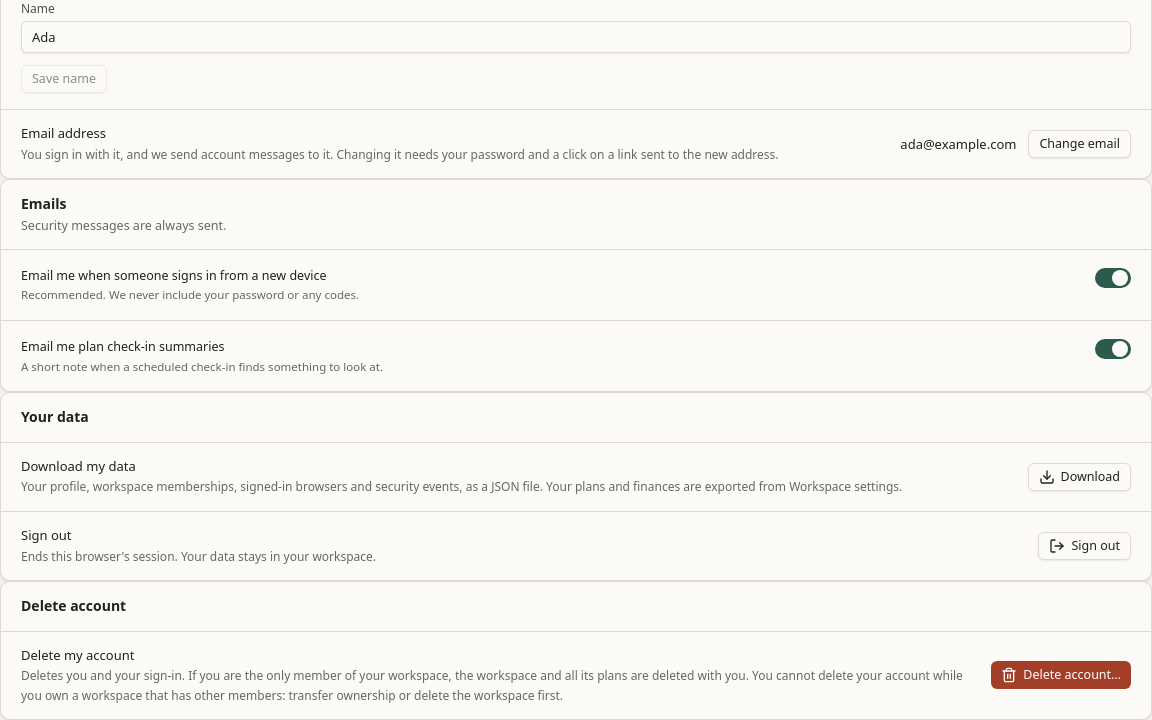
account › deleting the account needs the typed email address
Later steps or results of the test are not shown.
(page scrolled)
Click the button "Delete account…" at [1061, 676], box [991, 662, 1131, 690]
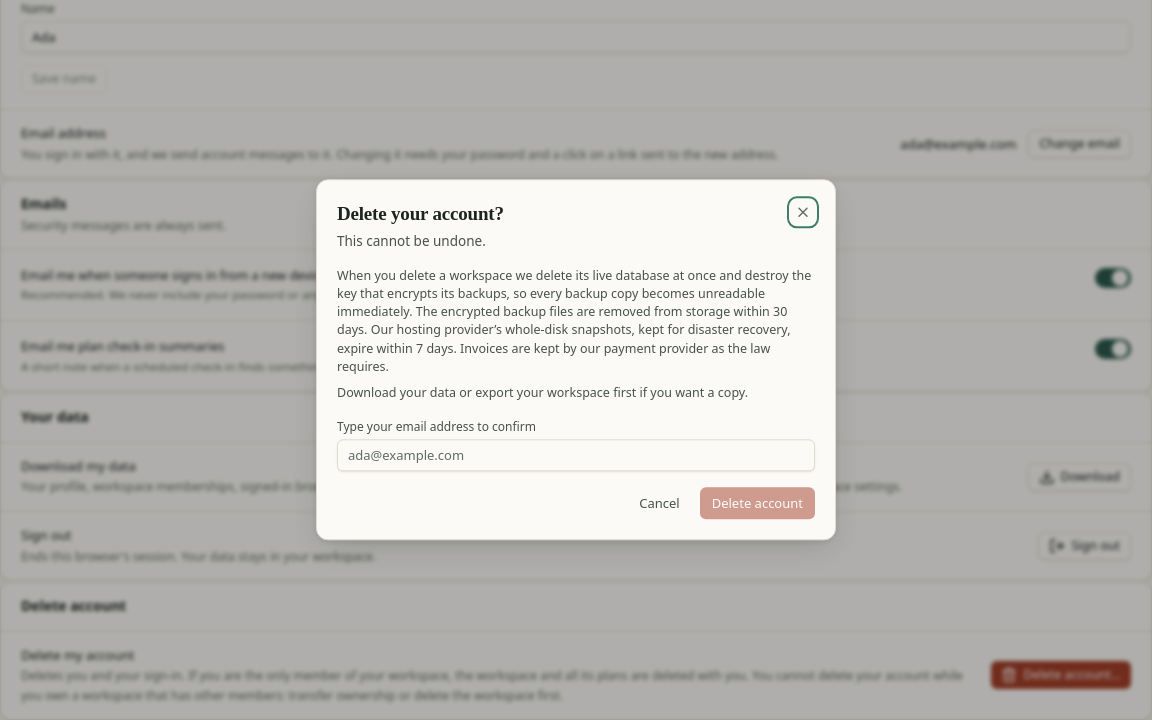
Now the button "Delete account" is disabled, box [700, 488, 815, 520]
Type "wrong@example.com" into the field labelled "Type your email address to confirm" at [576, 456], box [337, 440, 815, 472]
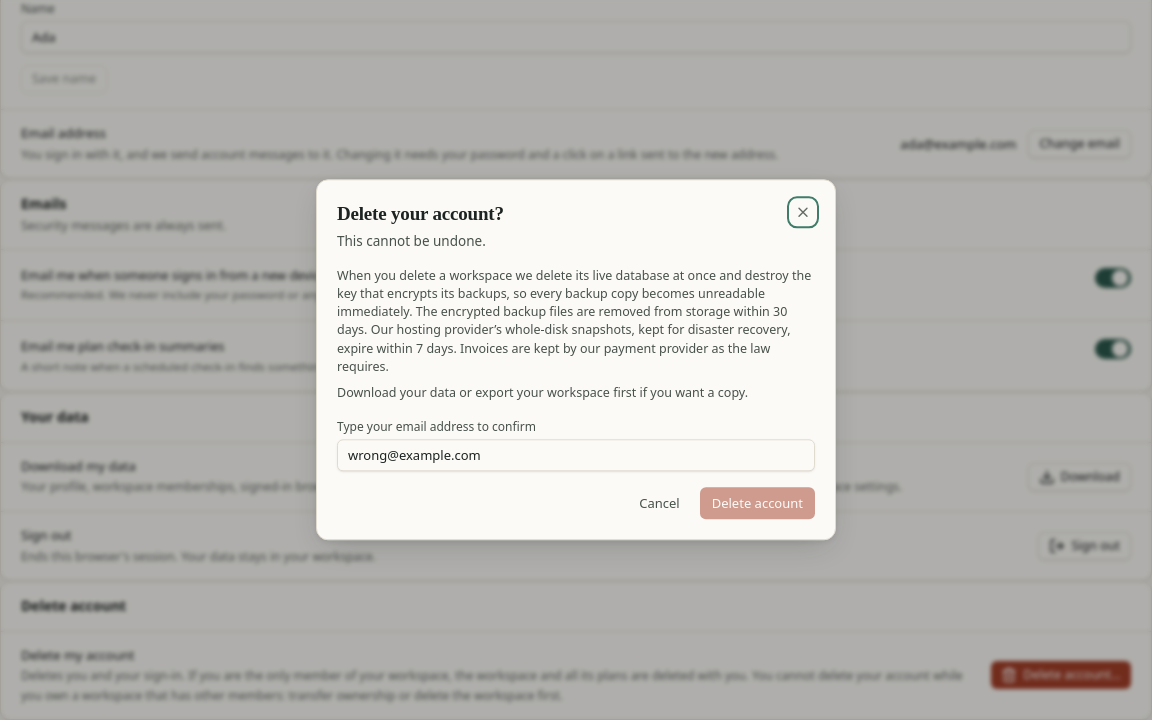
Now the button "Delete account" is disabled, box [700, 488, 815, 520]
Replace the text in the field labelled "Type your email address to confirm" with "ADA@example.com" at [576, 456], box [337, 440, 815, 472]
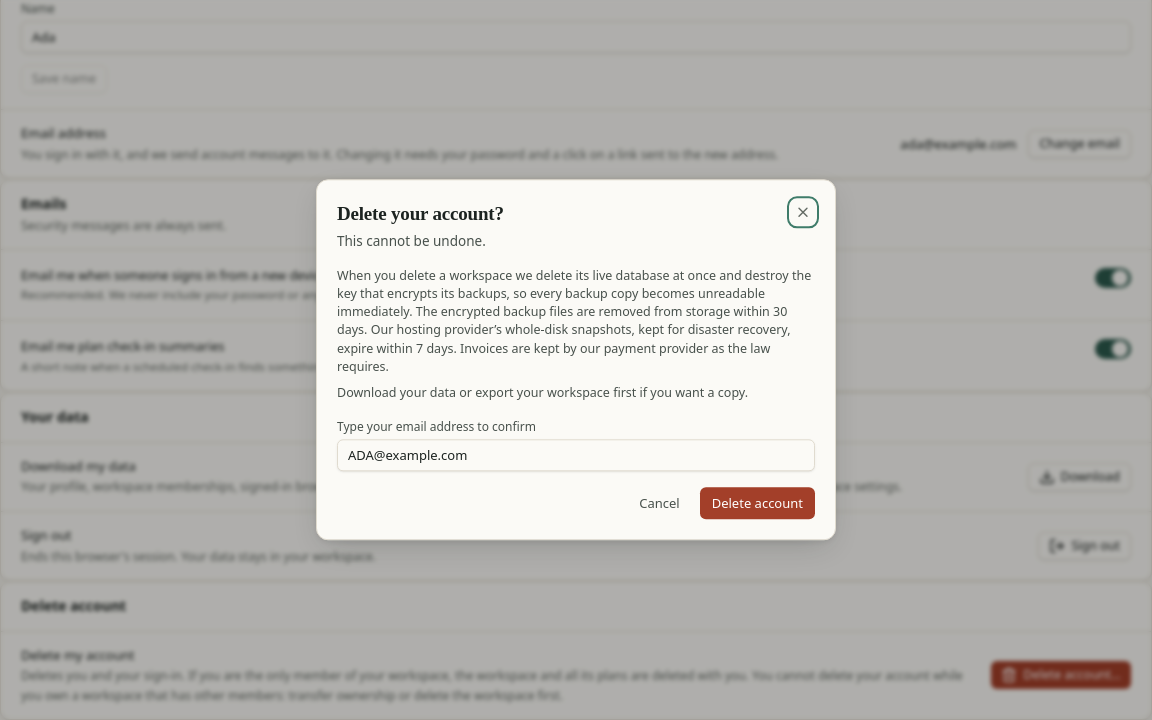
Now the text "removed from storage within 30 days" is shown, box [337, 267, 811, 375]
Now the button "Delete account" is enabled, box [700, 488, 815, 520]
